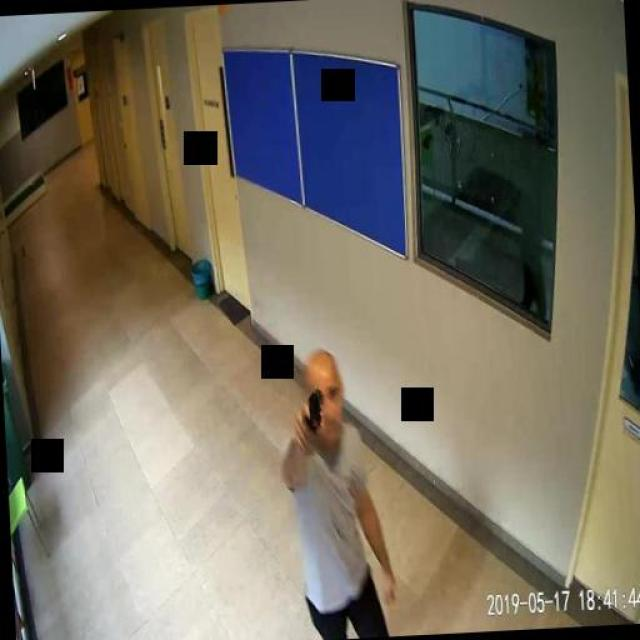gun: (296, 385, 328, 440)
